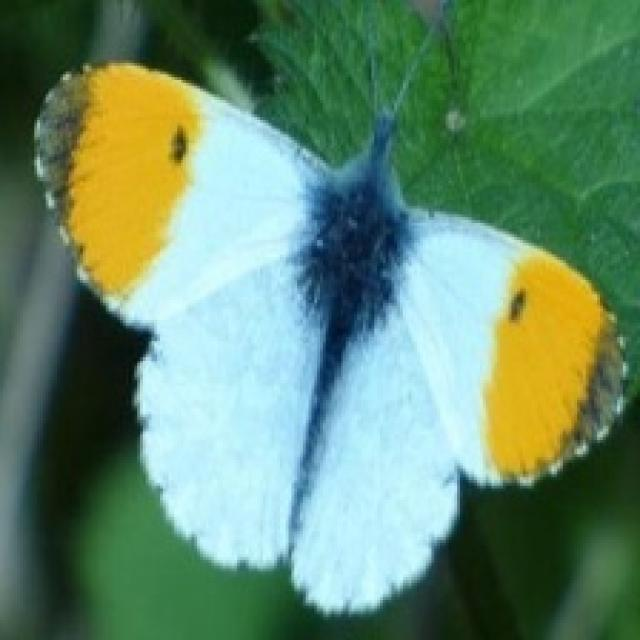butterfly: (29, 0, 632, 617)
